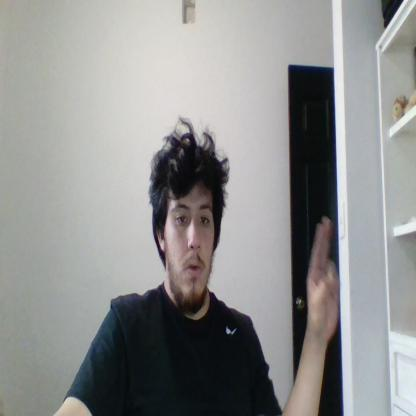U: (307, 216, 339, 340)
